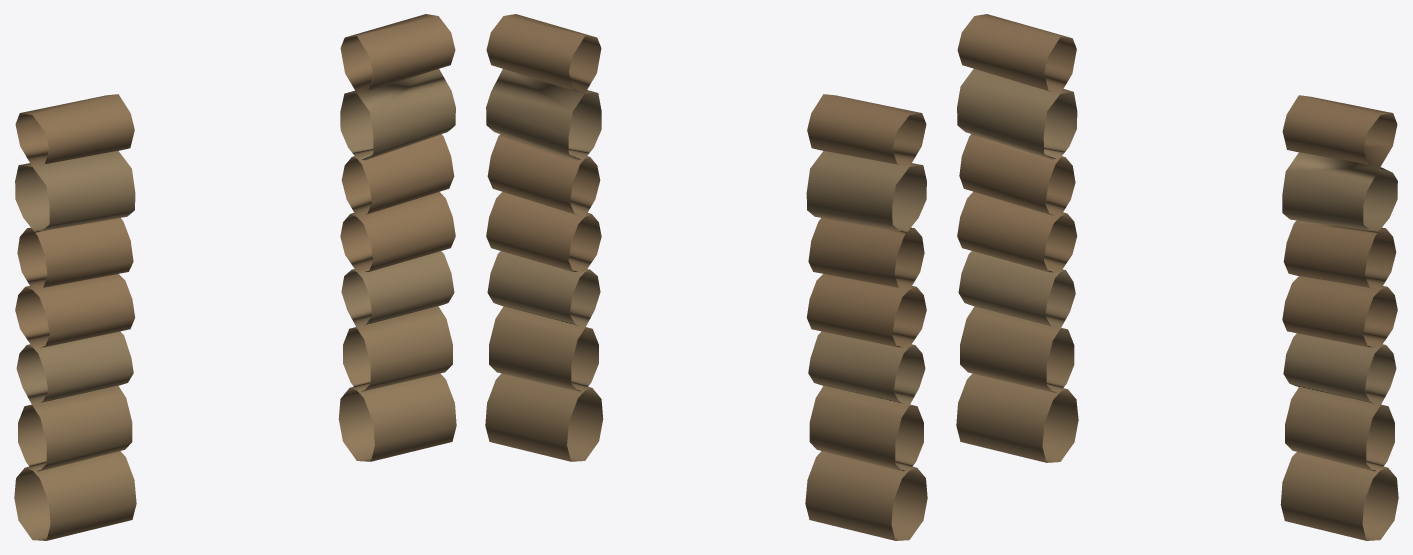
File: rpgpp_ag_wall_01_3x3_door_a.fbx
3 views of the same model, side by side, from view 1: azimuth 30°, elevation 25°; view 2: azimuth 150°, elevation 25°; view 3: azimuth 330°, elevation 25° (orthographic).
Visible parts, largest first — view 1: rpgpp_ag_wall_01_3x3_door_a; view 2: rpgpp_ag_wall_01_3x3_door_a; view 3: rpgpp_ag_wall_01_3x3_door_a.
Boxes of the visible parts, x1,y1,x2,y2 form: rpgpp_ag_wall_01_3x3_door_a: (14,14,456,540); rpgpp_ag_wall_01_3x3_door_a: (485,14,927,540); rpgpp_ag_wall_01_3x3_door_a: (956,14,1398,540).
Bounding box in the file's own units: 3 × 3 × 0.4626.
